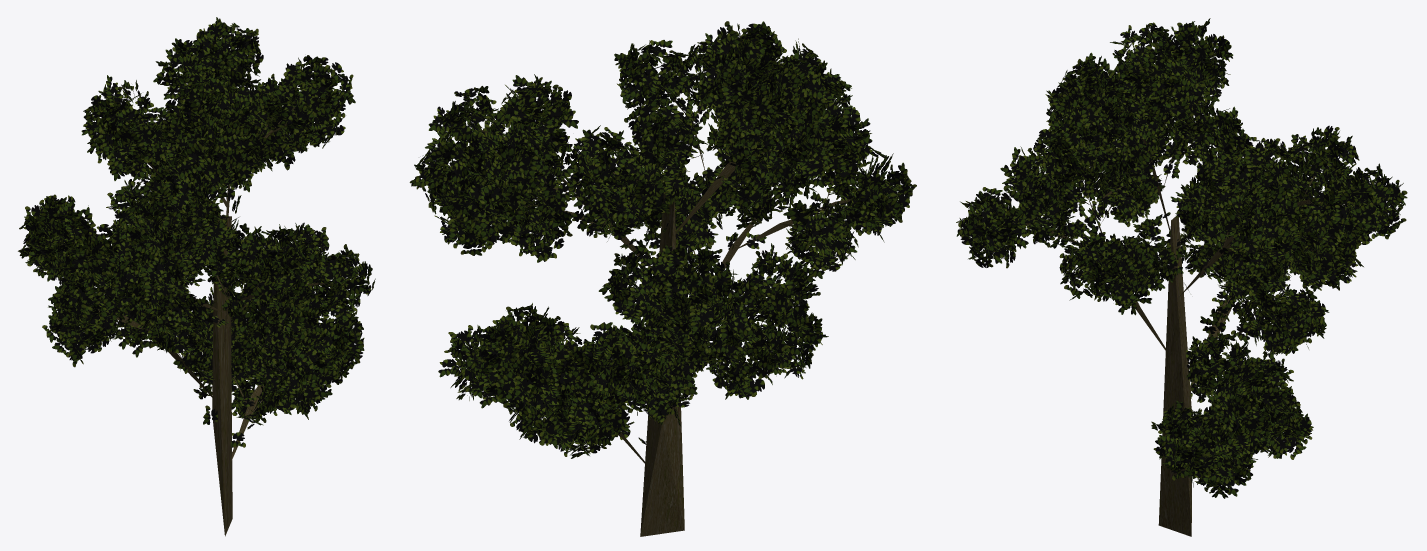
Rendered from evergreen_broad_v01_LOD1.fbx.
The picture shows the model from 3 angles, left to right: view 1: azimuth 30°, elevation 25°; view 2: azimuth 150°, elevation 25°; view 3: azimuth 270°, elevation 25°; orthographic projection. The views are drawn at different scales.
Visible parts, largest first — view 1: evergreen_broad_v01_LOD1; view 2: evergreen_broad_v01_LOD1; view 3: evergreen_broad_v01_LOD1.
Boxes of the visible parts, box(x1,y1,x2,y2) form: evergreen_broad_v01_LOD1: box(18, 17, 375, 536); evergreen_broad_v01_LOD1: box(409, 21, 916, 536); evergreen_broad_v01_LOD1: box(956, 18, 1407, 536).
Size of the model in its own units: 1451 by 1726 by 1924.
2 materials, 2 textured.
